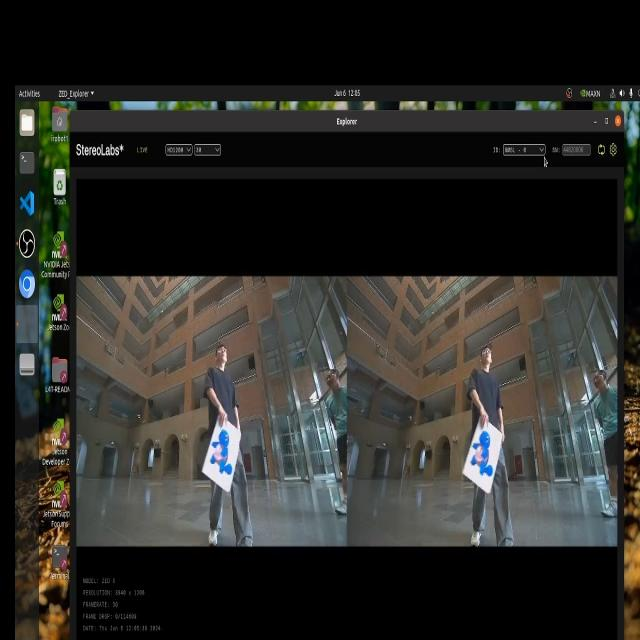blue: (468, 431, 504, 482), (212, 427, 242, 480)
